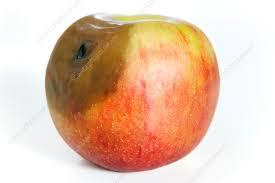damaged_apple: (46, 16, 219, 171)
